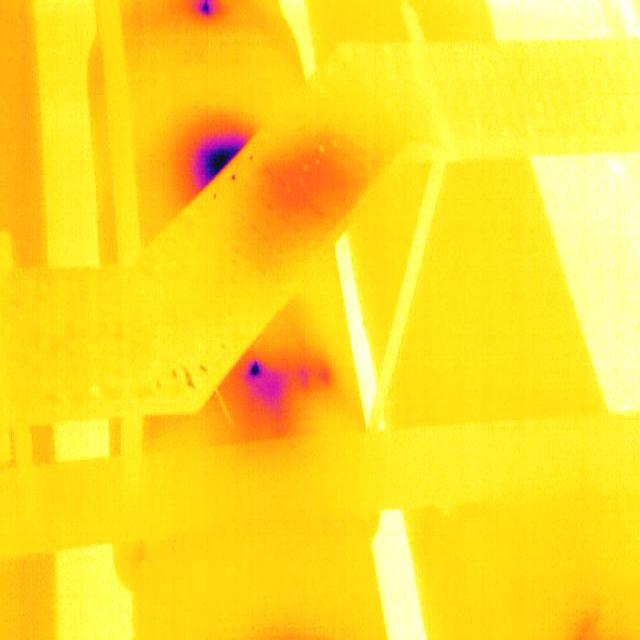leakage: (261, 138, 358, 266), (172, 117, 251, 195), (241, 358, 324, 419), (189, 3, 231, 17)
